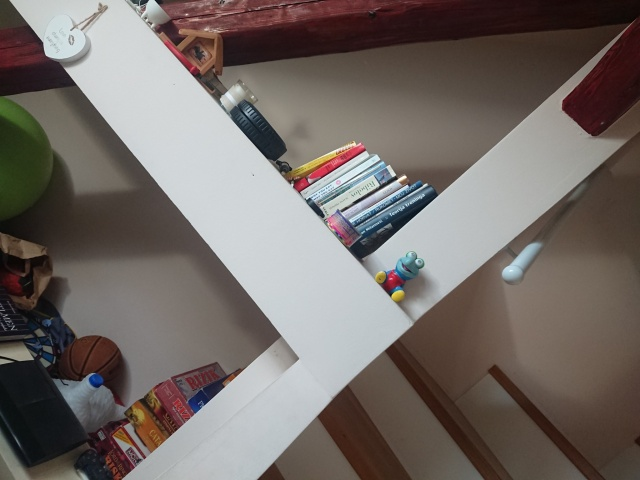Giana Tuna Salad Mexico 185g: (321, 208, 365, 250)
